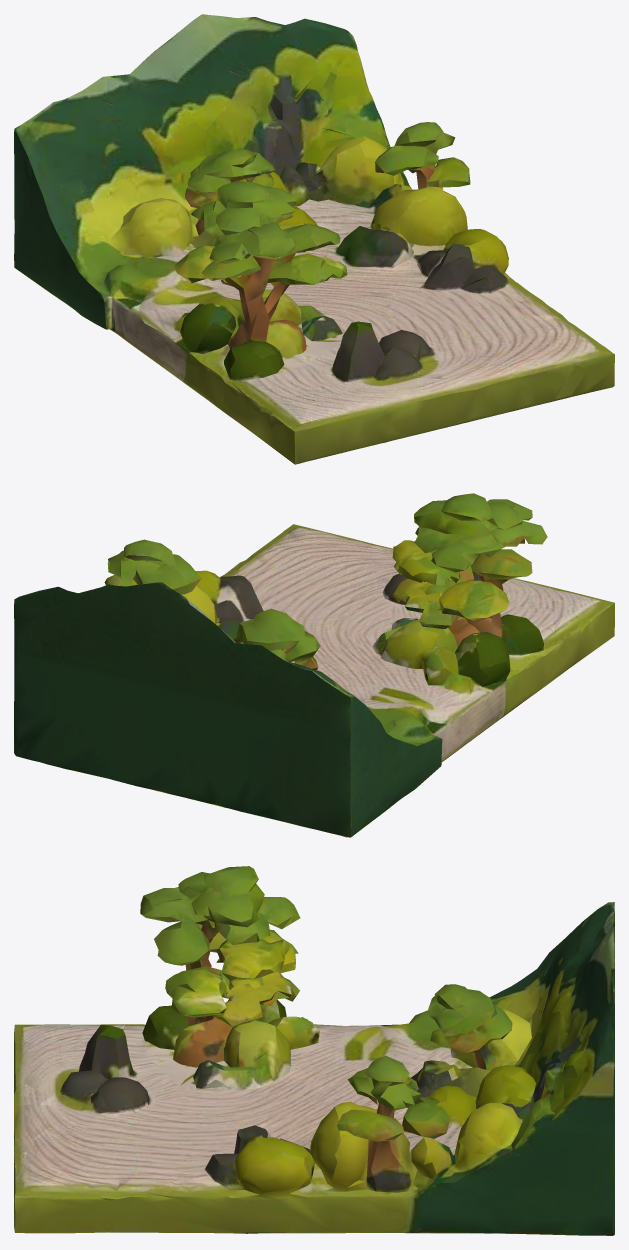
Rendered from adachi-museum.glb.
3 renders of one model, top to bottom at view 1: azimuth 30°, elevation 25°; view 2: azimuth 150°, elevation 25°; view 3: azimuth 270°, elevation 25°, orthographic. The views are drawn at different scales.
Visible parts, largest first — view 1: logan-textured.obj; view 2: logan-textured.obj; view 3: logan-textured.obj.
Boxes of the visible parts, x1,y1,x2,y2 form: logan-textured.obj: (14, 14, 614, 464); logan-textured.obj: (14, 493, 614, 837); logan-textured.obj: (14, 866, 614, 1235).
Size of the model in its own units: 0.7385 by 0.4247 by 1.
1 material, 1 textured.
